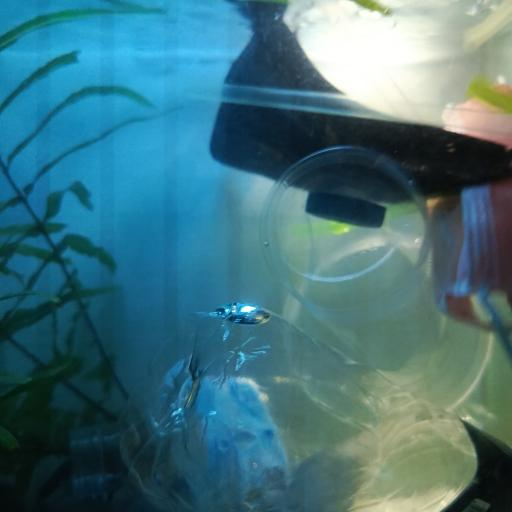bottle_cap: (305, 190, 386, 228)
mask: (209, 2, 512, 201), (435, 83, 512, 333)
plastic_bottle: (116, 305, 512, 512), (65, 360, 501, 500)
plastic_cup: (261, 146, 493, 412)
plastic_straw: (185, 80, 512, 134)
